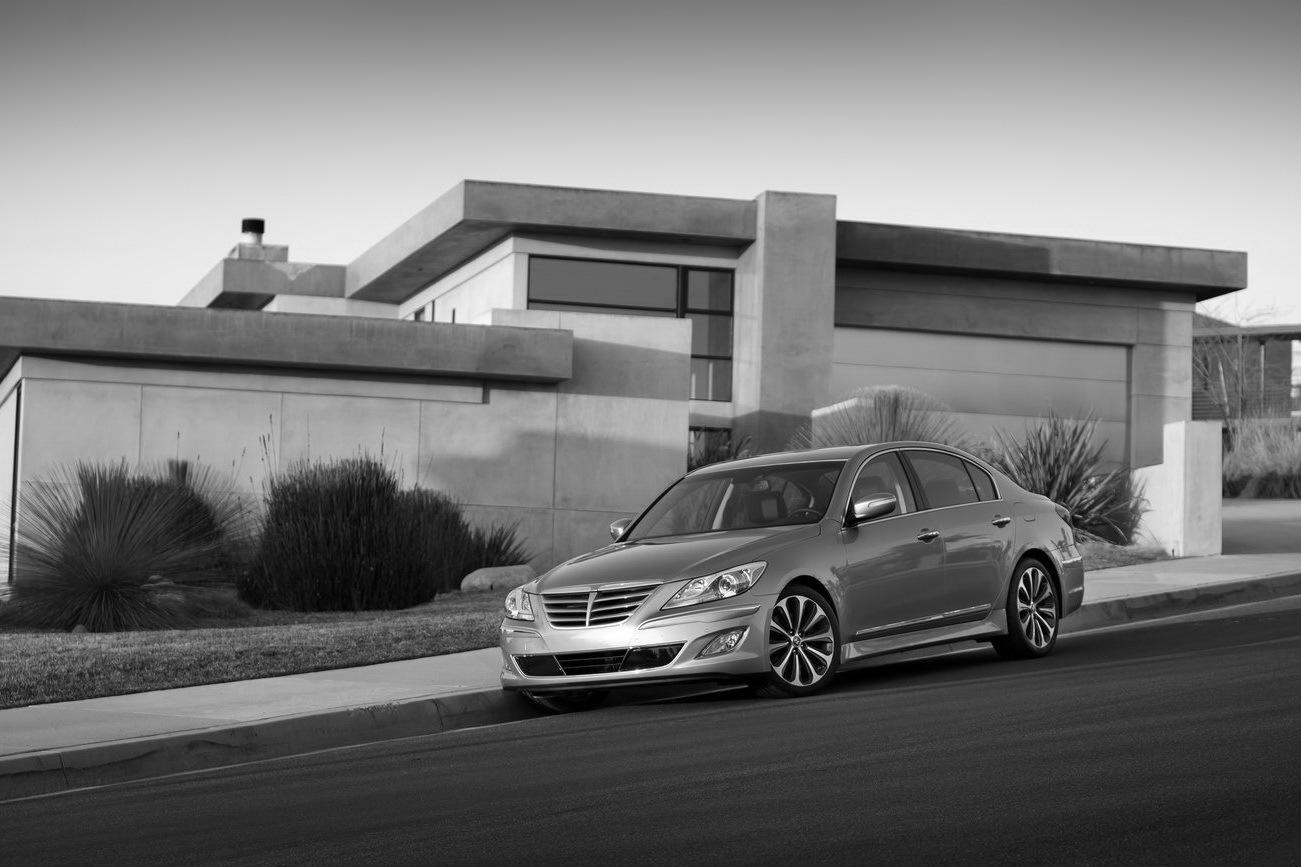car: (501, 443, 1088, 706)
